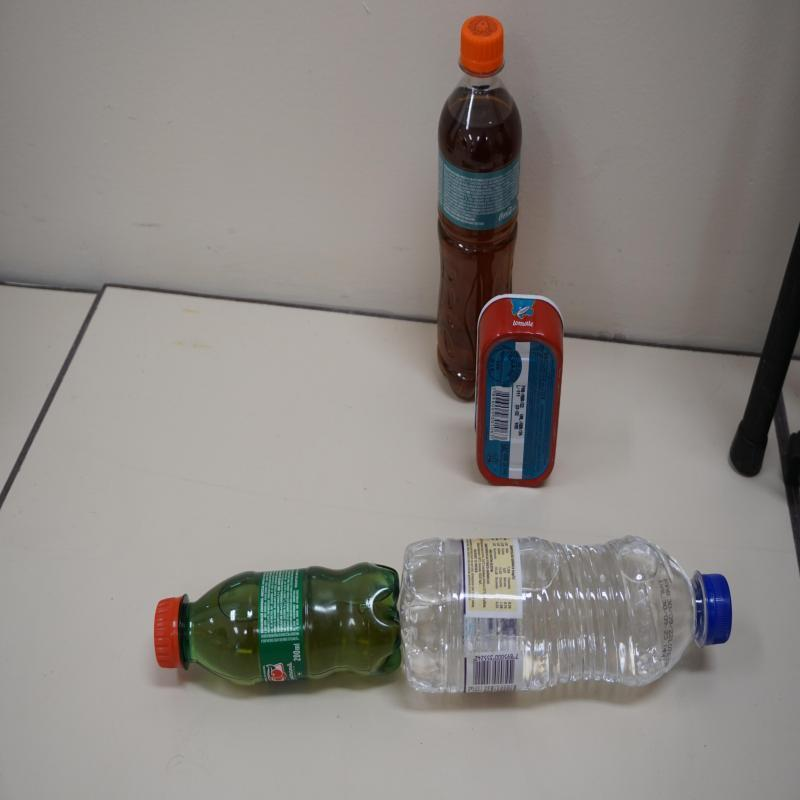Guarana: (153, 563, 401, 695)
IceTea: (436, 17, 524, 404)
TunaCan: (476, 294, 564, 490)
Water: (396, 535, 732, 708)
